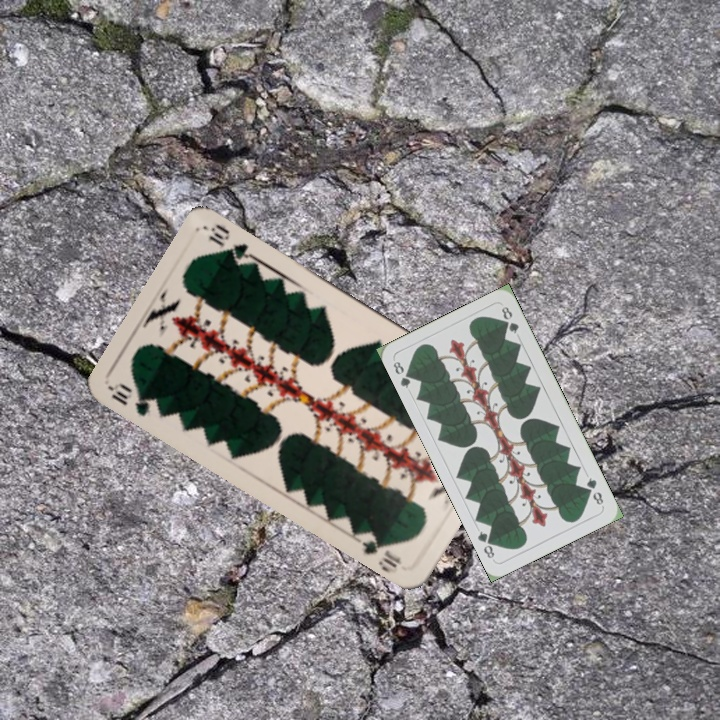G10: (107, 378, 163, 419)
G8: (389, 357, 416, 391), (582, 473, 606, 508)
